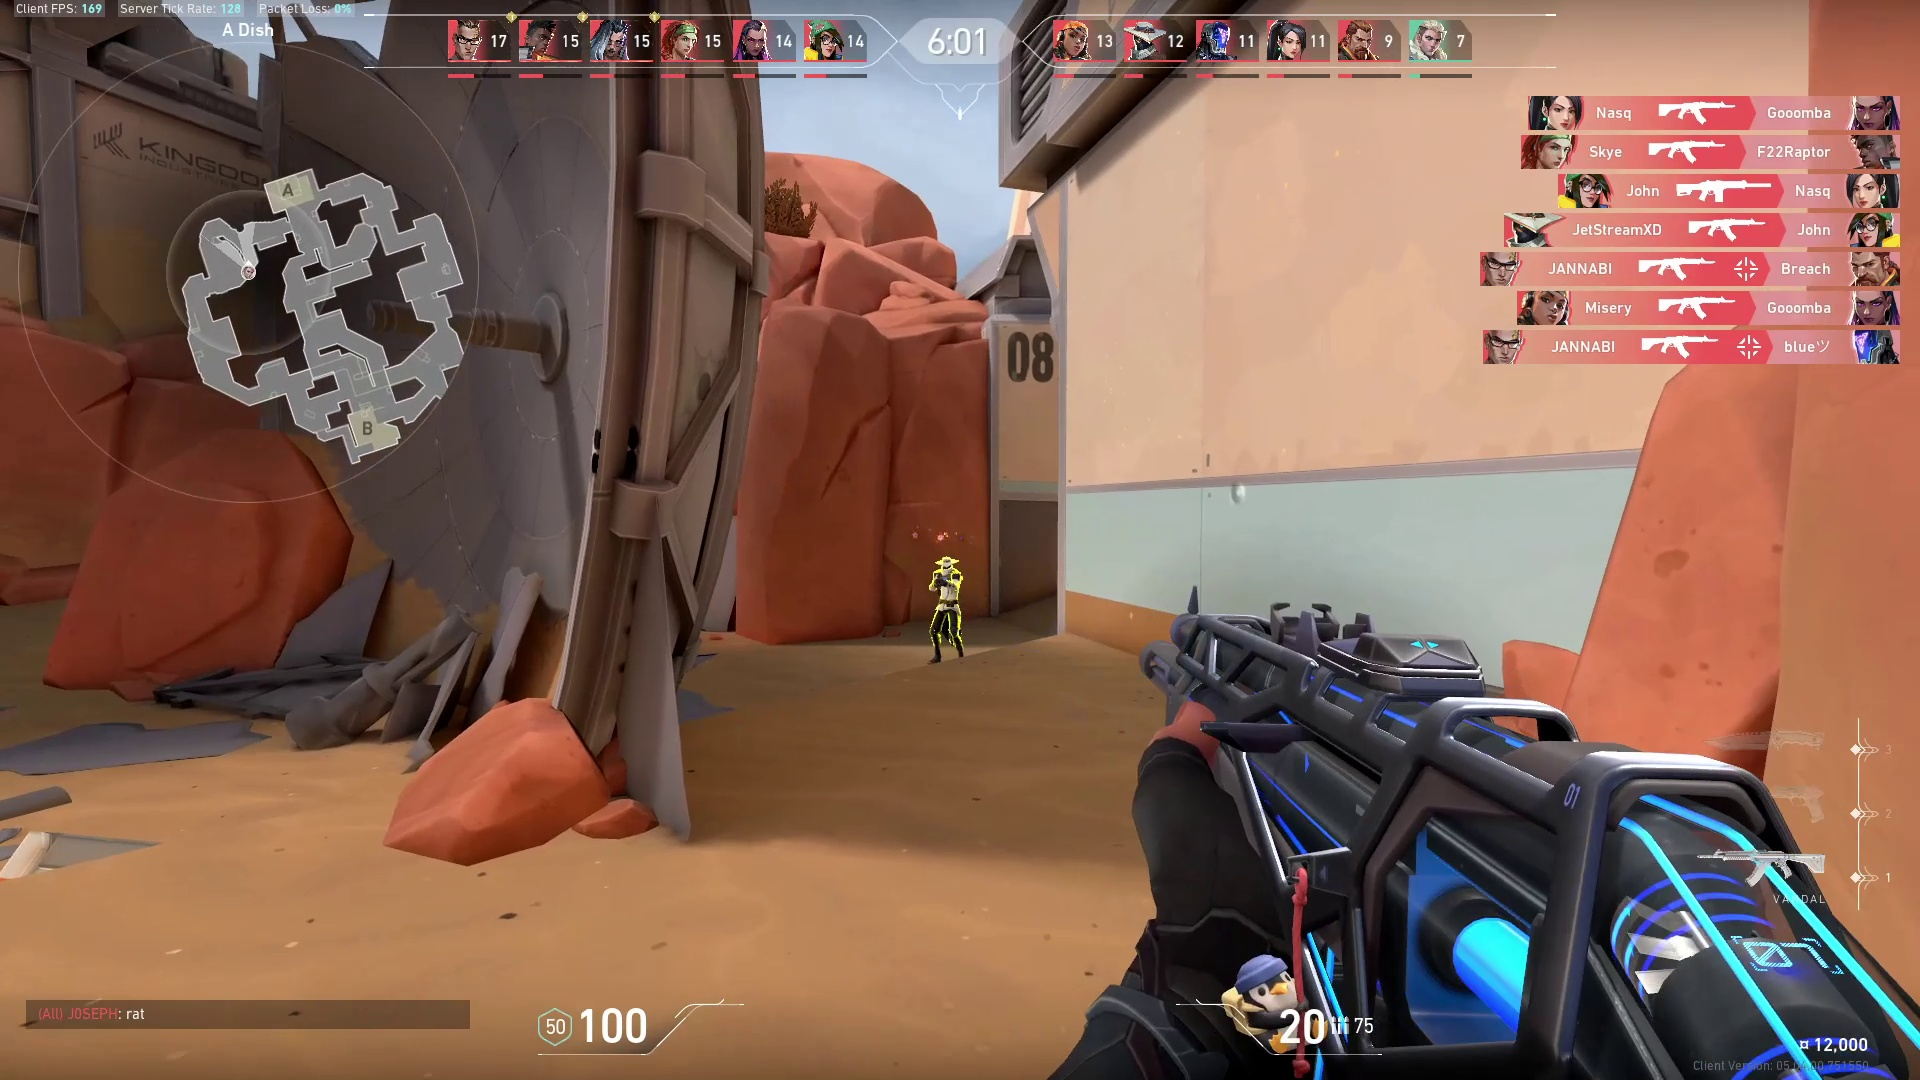enemy_body: (919, 570, 982, 667)
enemy_head: (928, 550, 965, 578)
